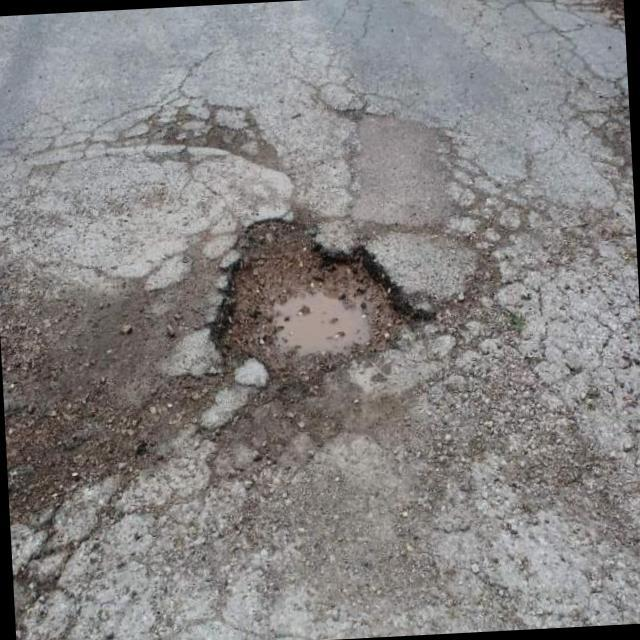Pothole: (222, 223, 405, 389)
